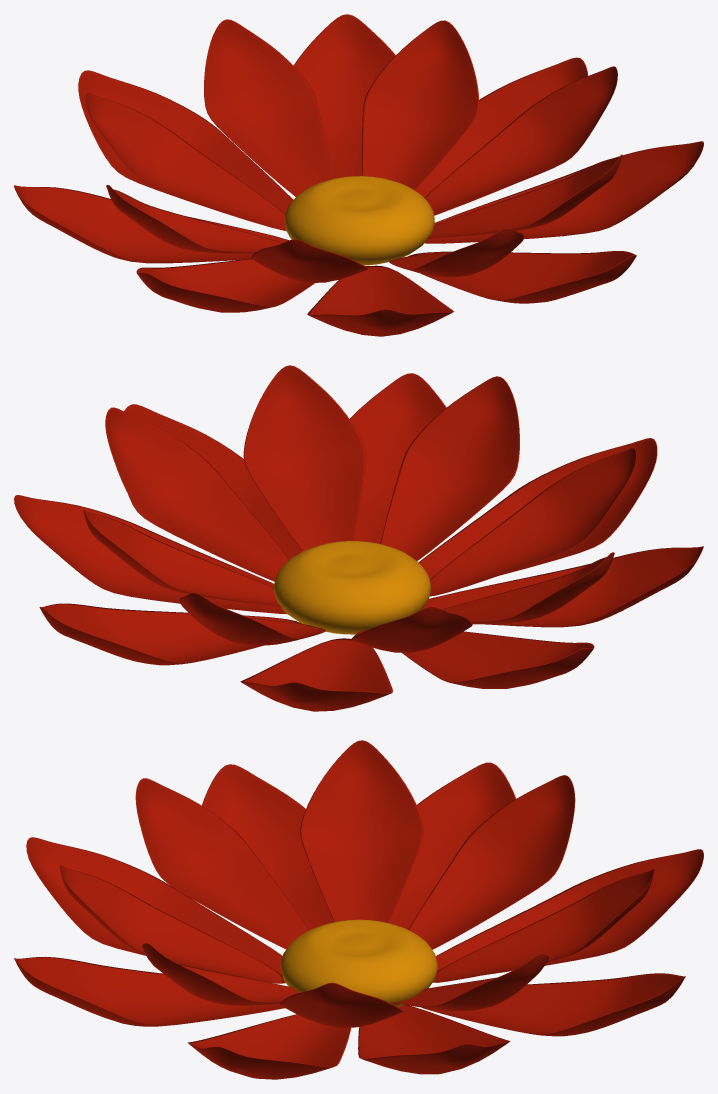
File: CbetokToli.fbx
The picture shows the model from 3 angles, top to bottom: view 1: azimuth 30°, elevation 25°; view 2: azimuth 150°, elevation 25°; view 3: azimuth 270°, elevation 25°; orthographic projection. The views are drawn at different scales.
Visible parts, largest first — view 1: Plane.000, Plane.001, Plane.002, Sphere, Plane.003, Plane.013, Plane.008, Plane.005, Plane.012, Plane.015, Plane.010, Plane.011 (+5 smaller); view 2: Plane.004, Plane.006, Plane.002, Sphere, Plane.007, Plane.013, Plane.014, Plane.011, Plane.015, Plane.012, Plane.005, Plane.001 (+5 smaller); view 3: Plane.009, Plane.003, Plane.007, Sphere, Plane.015, Plane.011, Plane.013, Plane.010, Plane.006, Plane.012, Plane.000, Plane.005 (+5 smaller).
Boxes of the visible parts, x1=… form: Plane.000: x1=204, y1=19, x2=332, y2=196; Plane.001: x1=362, y1=20, x2=479, y2=190; Plane.002: x1=424, y1=66, x2=617, y2=212; Sphere: x1=284, y1=176, x2=434, y2=265; Plane.003: x1=85, y1=92, x2=285, y2=229; Plane.013: x1=293, y1=14, x2=395, y2=178; Plane.008: x1=425, y1=141, x2=703, y2=243; Plane.005: x1=14, y1=185, x2=288, y2=263; Plane.012: x1=78, y1=70, x2=293, y2=230; Plane.015: x1=408, y1=251, x2=636, y2=303; Plane.010: x1=307, y1=265, x2=453, y2=336; Plane.011: x1=136, y1=259, x2=314, y2=312; Plane.004: x1=243, y1=365, x2=366, y2=550; Plane.006: x1=380, y1=376, x2=519, y2=560; Plane.002: x1=105, y1=407, x2=288, y2=577; Sphere: x1=274, y1=541, x2=430, y2=634; Plane.007: x1=429, y1=447, x2=636, y2=596; Plane.013: x1=39, y1=603, x2=301, y2=665; Plane.014: x1=14, y1=495, x2=286, y2=614; Plane.011: x1=422, y1=546, x2=703, y2=627; Plane.015: x1=350, y1=373, x2=446, y2=543; Plane.012: x1=240, y1=638, x2=392, y2=711; Plane.005: x1=402, y1=631, x2=594, y2=688; Plane.001: x1=83, y1=509, x2=282, y2=607; Plane.009: x1=300, y1=740, x2=424, y2=923; Plane.003: x1=408, y1=775, x2=575, y2=949; Plane.007: x1=135, y1=778, x2=308, y2=949; Sphere: x1=280, y1=919, x2=437, y2=1006; Plane.015: x1=14, y1=956, x2=284, y2=1026; Plane.011: x1=202, y1=764, x2=334, y2=930; Plane.013: x1=422, y1=973, x2=685, y2=1036; Plane.010: x1=26, y1=837, x2=285, y2=983; Plane.006: x1=59, y1=865, x2=284, y2=983; Plane.012: x1=435, y1=849, x2=703, y2=974; Plane.000: x1=433, y1=868, x2=654, y2=982; Plane.005: x1=389, y1=762, x2=516, y2=929.
Bounding box in the file's own units: 864 × 198 × 875.
